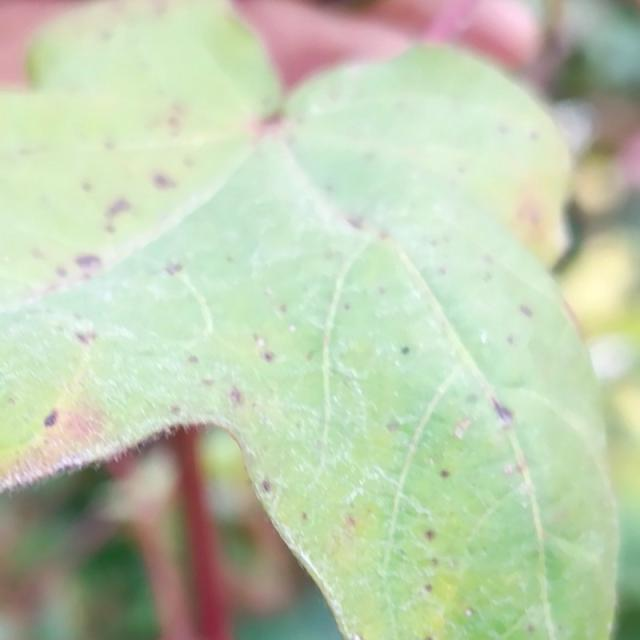Bacterial_Blight: (7, 399, 114, 488), (50, 250, 110, 288), (333, 201, 380, 241), (484, 389, 522, 430), (517, 196, 545, 233), (34, 402, 66, 434), (157, 101, 190, 132), (391, 335, 423, 366), (106, 198, 132, 221), (75, 253, 101, 270), (261, 110, 284, 127), (153, 173, 173, 189), (164, 260, 183, 275), (228, 386, 243, 404), (76, 330, 94, 345), (344, 516, 357, 536), (30, 248, 46, 261), (386, 420, 400, 434), (503, 463, 517, 477), (520, 304, 533, 318), (454, 426, 466, 441), (103, 138, 116, 151), (55, 266, 68, 278), (482, 253, 494, 265), (424, 528, 435, 541), (261, 479, 271, 493), (497, 124, 509, 135), (263, 351, 274, 362), (482, 271, 493, 282), (529, 131, 540, 142), (264, 287, 275, 298), (516, 462, 526, 474), (187, 355, 199, 365), (466, 393, 478, 403), (81, 182, 92, 192), (256, 337, 266, 348), (170, 405, 180, 415), (105, 224, 115, 234), (278, 303, 288, 313), (437, 266, 447, 276), (440, 469, 450, 478), (506, 335, 515, 345), (306, 351, 315, 361), (377, 286, 386, 296), (6, 397, 15, 406), (225, 255, 234, 264), (288, 324, 297, 333), (431, 557, 439, 567), (424, 584, 432, 593), (465, 608, 473, 617), (526, 624, 534, 633), (343, 302, 351, 310), (301, 512, 308, 521), (424, 636, 434, 640)
Cotton: (0, 0, 618, 639)
